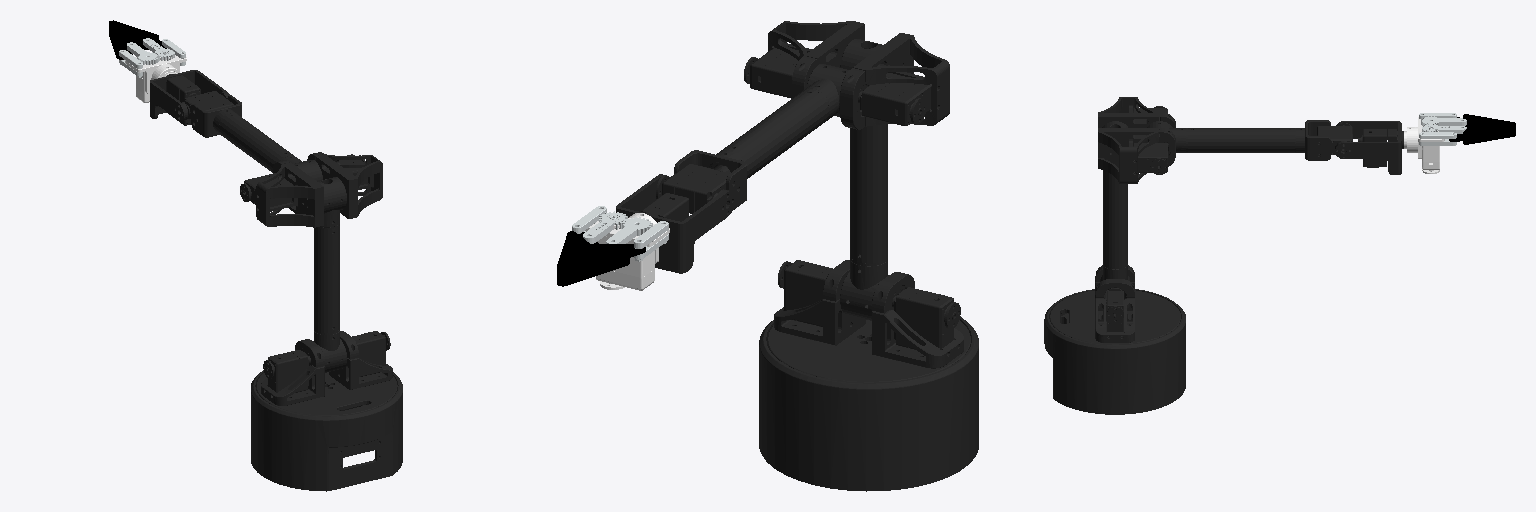
The robot description file, URDF, robot "roboarm_chem_04":
<?xml version='1.0' encoding='utf-8'?>
<robot name="roboarm_chem_04">
  <link name="base_link">
    <inertial>
      <origin xyz="1.73932663244066E-06 0.00265883709747997 0.0446889883493478" rpy="0 0 0" />
      <mass value="0.419863469519142" />
      <inertia ixx="0.00105761024557456" ixy="5.12356330375273E-08" ixz="1.24770636493458E-08" iyy="0.00142771966144248" iyz="-2.07656595584937E-06" izz="0.00211039120929697" />
    </inertial>
    <visual>
      <origin xyz="0 0 0" rpy="0 0 0" />
      <geometry>
        <mesh filename="package://roboarm_chem_04/meshes/base_link.STL" />
      </geometry>
      <material name="">
        <color rgba="0.2 0.2 0.2 1" />
      </material>
    </visual>
    <collision>
      <origin xyz="0 0 0" rpy="0 0 0" />
      <geometry>
        <box size="0.18 0.18 0.09" />
      </geometry>
    </collision>
  </link>
  <link name="Link_1">
    <inertial>
      <origin xyz="-0.000312939053955983 0.000491374965336895 0.0833125354570275" rpy="0 0 0" />
      <mass value="0.222236489449497" />
      <inertia ixx="0.000144980069064503" ixy="7.37632654533576E-11" ixz="1.21531430288866E-14" iyy="0.000154087088620012" iyz="-1.73389242482781E-07" izz="0.000272979063174988" />
    </inertial>
    <visual>
      <origin xyz="0 0 0" rpy="0 0 0" />
      <geometry>
        <mesh filename="package://roboarm_chem_04/meshes/Link_1.STL" />
      </geometry>
      <material name="">
        <color rgba="0.2 0.2 0.2 1" />
      </material>
    </visual>
    <collision>
      <origin xyz="0 0 0" rpy="0 0 0" />
      <geometry>
        <box size="0.11 0.11 0.18" />
      </geometry>
    </collision>
  </link>
  <joint name="J1" type="revolute">
    <origin xyz="0 0 0.0101" rpy="0 0 0" />
    <parent link="base_link" />
    <child link="Link_1" />
    <axis xyz="0 0 1" />
    <limit lower="-2.35619449" upper="2.35619449" effort="1.000" velocity="1.500" />
  </joint>
  <link name="Link_2">
    <inertial>
      <origin xyz="-0.0171421351250699 0.151314038284628 0.014500005663554" rpy="0 0 0" />
      <mass value="0.223533522736278" />
      <inertia ixx="7.90800916838117E-05" ixy="-9.96905272279738E-11" ixz="4.32997056370354E-13" iyy="6.98465011294098E-05" iyz="1.64016524797698E-08" izz="8.90023782097536E-05" />
    </inertial>
    <visual>
      <origin xyz="0 0 0" rpy="0 0 0" />
      <geometry>
        <mesh filename="package://roboarm_chem_04/meshes/Link_2.STL" />
      </geometry>
      <material name="">
        <color rgba="0.2 0.2 0.2 1" />
      </material>
    </visual>
    <collision>
      <origin xyz="0 0 0" rpy="0 0 0" />
      <geometry>
        <box size="0.08 0.25 0.08" />
      </geometry>
    </collision>
  </link>
  <joint name="J2" type="revolute">
    <origin xyz="0.0144999999999951 0 0.1099" rpy="1.5707963267949 0 -1.5707963267949" />
    <parent link="Link_1" />
    <child link="Link_2" />
    <axis xyz="0 0 -1" />
    <limit lower="-1.57079633" upper="1.57079633" effort="1.000" velocity="1.000" />
  </joint>
  <link name="Link_3">
    <inertial>
      <origin xyz="-0.107890244054724 -4.24983861990746E-09 0.0151815650581185" rpy="0 0 0" />
      <mass value="0.0912315363618316" />
      <inertia ixx="1.49543834285298E-05" ixy="5.77364105632455E-11" ixz="-3.22770002321996E-08" iyy="3.80467299541397E-05" iyz="6.99873536036071E-12" izz="3.70836832591147E-05" />
    </inertial>
    <visual>
      <origin xyz="0 0 0" rpy="0 0 0" />
      <geometry>
        <mesh filename="package://roboarm_chem_04/meshes/Link_3.STL" />
      </geometry>
      <material name="">
        <color rgba="0.2 0.2 0.2 1" />
      </material>
    </visual>
    <collision>
      <origin xyz="0 0 0" rpy="0 0 0" />
      <geometry>
        <box size="0.25 0.08 0.08" />
      </geometry>
    </collision>
  </link>
  <joint name="J3" type="revolute">
    <origin xyz="-0.0499999999999992 0.184 0" rpy="0 0 0" />
    <parent link="Link_2" />
    <child link="Link_3" />
    <axis xyz="0 0 -1" />
    <limit lower="-1.57079633" upper="1.57079633" effort="1.000" velocity="1.000" />
  </joint>
  <link name="Link_4">
    <inertial>
      <origin xyz="0.044481095091289 -0.0081761124999791 -0.0292999849532792" rpy="0 0 0" />
      <mass value="0.0443537492683168" />
      <inertia ixx="1.68078112877524E-05" ixy="1.81577312969689E-06" ixz="-2.98991048329258E-12" iyy="2.05289831770313E-05" iyz="7.00940146791729E-12" izz="1.48883101964323E-05" />
    </inertial>
    <visual>
      <origin xyz="0 0 0" rpy="0 0 0" />
      <geometry>
        <mesh filename="package://roboarm_chem_04/meshes/Link_4.STL" />
      </geometry>
      <material name="">
        <color rgba="0.2 0.2 0.2 1" />
      </material>
    </visual>
    <collision>
      <origin xyz="0 0 0" rpy="0 0 0" />
      <geometry>
        <box size="0.13 0.09 0.09" />
      </geometry>
    </collision>
  </link>
  <joint name="J4" type="revolute">
    <origin xyz="-0.207519998126899 0 -0.014000000000003" rpy="-3.14159265358979 0 -3.14159265358979" />
    <parent link="Link_3" />
    <child link="Link_4" />
    <axis xyz="0 0 -1" />
    <limit lower="-1.57079633" upper="1.57079633" effort="0.800" velocity="1.500" />
  </joint>
  <link name="Link_5">
    <inertial>
      <origin xyz="-0.000249102056309764 -0.00221513144395682 0.0147208004051248" rpy="0 0 0" />
      <mass value="0.0455446268807533" />
      <inertia ixx="3.75821058667943E-06" ixy="-3.7657117189236E-08" ixz="-2.26616793119383E-08" iyy="8.28242643273661E-06" iyz="-4.98489753704155E-07" izz="8.27637551908393E-06" />
    </inertial>
    <visual>
      <origin xyz="0 0 0" rpy="0 0 0" />
      <geometry>
        <mesh filename="package://roboarm_chem_04/meshes/Link_5.STL" />
      </geometry>
      <material name="">
        <color rgba="1 1 1 1" />
      </material>
    </visual>
    <collision>
      <origin xyz="0 0 0" rpy="0 0 0" />
      <geometry>
        <box size="0.12 0.11 0.09" />
      </geometry>
    </collision>
  </link>
  <joint name="J5" type="revolute">
    <origin xyz="0.0785 0 -0.0293000000000028" rpy="0 1.5707963267949 0" />
    <parent link="Link_4" />
    <child link="Link_5" />
    <axis xyz="0 0 1" />
    <limit lower="-2.35619449" upper="2.35619449" effort="0.800" velocity="1.500" />
  </joint>
  <link name="Link_firge">
    <inertial>
      <origin xyz="1.83695036411191E-07 -0.0089178020458654 0.0514594684786575" rpy="0 0 0" />
      <mass value="0.00360498134108606" />
      <inertia ixx="5.27597115391917E-07" ixy="-6.79732275349961E-12" ixz="-1.1996336603417E-13" iyy="6.10955326164708E-08" iyz="6.95542456556916E-09" izz="5.63546065387766E-07" />
    </inertial>
    <visual>
      <origin xyz="0 0 0" rpy="0 0 0" />
      <geometry>
        <mesh filename="package://roboarm_chem_04/meshes/Link_firge.STL" />
      </geometry>
      <material name="">
        <color rgba="0.898039215686275 0.92156862745098 0.929411764705882 1" />
      </material>
    </visual>
    <collision>
      <origin xyz="0 0 0" rpy="0 0 0" />
      <geometry>
        <box size="0.04 0.04 0.09" />
      </geometry>
    </collision>
  </link>
  <joint name="JF" type="revolute">
    <origin xyz="-0.01 -0.0342 0.02" rpy="-1.5708 0 0" />
    <parent link="Link_5" />
    <child link="Link_firge" />
    <axis xyz="0 0 1" />
    <limit lower="-0.76699039" upper="1.53398079" effort="0.400" velocity="1.000" />
  </joint>
  <link name="Link_R3">
    <inertial>
      <origin xyz="-0.000803040650935911 -0.0221438584436943 -0.00674999998460443" rpy="0 0 0" />
      <mass value="0.00824328211198732" />
      <inertia ixx="2.77757435310965E-06" ixy="7.32956274730454E-07" ixz="1.99019718121647E-15" iyy="5.90547228107081E-07" iyz="-1.18673854698641E-15" izz="3.11014791998846E-06" />
    </inertial>
    <visual>
      <origin xyz="0 0 0" rpy="0 0 0" />
      <geometry>
        <mesh filename="package://roboarm_chem_04/meshes/Link_R3.STL" />
      </geometry>
      <material name="">
        <color rgba="0 0 0 1" />
      </material>
    </visual>
    <collision>
      <origin xyz="0 0 0" rpy="0 0 0" />
      <geometry>
        <box size="0.035 0.09 0.025" />
      </geometry>
    </collision>
  </link>
  <joint name="JR3" type="revolute">
    <origin xyz="0 -0.035 0.0542" rpy="0 0 0" />
    <parent link="Link_firge" />
    <child link="Link_R3" />
    <axis xyz="0 0 1" />
    <limit lower="-0.76699039" upper="1.53398079" effort="0.200" velocity="1.000" />
    <mimic joint="JF" multiplier="-1" offset="0" />
  </joint>
  <link name="Link_R1">
    <inertial>
      <origin xyz="3.46944695195361E-18 -0.0175 -0.00675000000000003" rpy="0 0 0" />
      <mass value="0.00309998846903219" />
      <inertia ixx="4.17980449638334E-07" ixy="-4.03367256691125E-24" ixz="-1.35456091245948E-24" iyy="2.29615233305605E-08" iyz="-1.19498820553349E-22" izz="4.28180617268639E-07" />
    </inertial>
    <visual>
      <origin xyz="0 0 0" rpy="0 0 0" />
      <geometry>
        <mesh filename="package://roboarm_chem_04/meshes/Link_R1.STL" />
      </geometry>
      <material name="">
        <color rgba="0.898039215686275 0.92156862745098 0.929411764705882 1" />
      </material>
    </visual>
    <collision>
      <origin xyz="0 0 0" rpy="0 0 0" />
      <geometry>
        <box size="0.025 0.07 0.025" />
      </geometry>
    </collision>
  </link>
  <joint name="JR1" type="revolute">
    <origin xyz="-0.026 0.02 0.01" rpy="-1.5708 0 0" />
    <parent link="Link_5" />
    <child link="Link_R1" />
    <axis xyz="0 0 1" />
    <limit lower="-0.76699039" upper="1.53398079" effort="0.200" velocity="1.000" />
    <mimic joint="JF" multiplier="1" offset="0" />
  </joint>
  <link name="Link_L1">
    <inertial>
      <origin xyz="8.18706816421017E-08 -0.0114271913700033 -0.00200000222127561" rpy="0 0 0" />
      <mass value="0.00298449939501014" />
      <inertia ixx="5.76735411933144E-07" ixy="2.63949557594088E-12" ixz="-4.75600140268854E-16" iyy="6.05175920756033E-08" iyz="6.70531606768159E-14" izz="6.24840676797674E-07" />
    </inertial>
    <visual>
      <origin xyz="0 0 0" rpy="0 0 0" />
      <geometry>
        <mesh filename="package://roboarm_chem_04/meshes/Link_L1.STL" />
      </geometry>
      <material name="">
        <color rgba="0.898039215686275 0.92156862745098 0.929411764705882 1" />
      </material>
    </visual>
    <collision>
      <origin xyz="0 0 0" rpy="0 0 0" />
      <geometry>
        <box size="0.035 0.07 0.025" />
      </geometry>
    </collision>
  </link>
  <joint name="JL1" type="revolute">
    <origin xyz="0.01 0.0195 0.02" rpy="-1.5708 0 0" />
    <parent link="Link_5" />
    <child link="Link_L1" />
    <axis xyz="0 0 1" />
    <limit lower="-0.76699039" upper="1.53398079" effort="0.200" velocity="1.000" />
    <mimic joint="JF" multiplier="-1" offset="0" />
  </joint>
  <link name="Link_L4">
    <inertial>
      <origin xyz="0.000803040650935893 -0.0221438584436943 -0.00675000001539566" rpy="0 0 0" />
      <mass value="0.00824328211198731" />
      <inertia ixx="2.77757435310965E-06" ixy="-7.3295627473045E-07" ixz="1.99019689199083E-15" iyy="5.90547228107077E-07" iyz="1.18673768013635E-15" izz="3.11014791998846E-06" />
    </inertial>
    <visual>
      <origin xyz="0 0 0" rpy="0 0 0" />
      <geometry>
        <mesh filename="package://roboarm_chem_04/meshes/Link_L4.STL" />
      </geometry>
      <material name="">
        <color rgba="0 0 0 1" />
      </material>
    </visual>
    <collision>
      <origin xyz="0 0 0" rpy="0 0 0" />
      <geometry>
        <box size="0.035 0.09 0.025" />
      </geometry>
    </collision>
  </link>
  <joint name="JL4" type="revolute">
    <origin xyz="0 -0.035 0.0005" rpy="0 0 0" />
    <parent link="Link_L1" />
    <child link="Link_L4" />
    <axis xyz="0 0 1" />
    <limit lower="-0.76699039" upper="1.53398079" effort="0.200" velocity="1.000" />
    <mimic joint="JL1" multiplier="-1" offset="0" />
  </joint>
  <link name="Link_L2">
    <inertial>
      <origin xyz="-6.28432285376679E-10 -0.0174999999369088 -0.00795436671592822" rpy="0 0 0" />
      <mass value="0.00385882311747437" />
      <inertia ixx="4.20163036995019E-07" ixy="1.70029514005294E-14" ixz="3.0670575342076E-15" iyy="2.5144278341559E-08" iyz="3.05500432791958E-14" izz="4.31883980865295E-07" />
    </inertial>
    <visual>
      <origin xyz="0 0 0" rpy="0 0 0" />
      <geometry>
        <mesh filename="package://roboarm_chem_04/meshes/Link_L2.STL" />
      </geometry>
      <material name="">
        <color rgba="0.898039215686275 0.92156862745098 0.929411764705882 1" />
      </material>
    </visual>
    <collision>
      <origin xyz="0 0 0" rpy="0 0 0" />
      <geometry>
        <box size="0.025 0.07 0.025" />
      </geometry>
    </collision>
  </link>
  <joint name="JL2" type="revolute">
    <origin xyz="0.026 0.0197 0.01" rpy="-1.5708 0 0" />
    <parent link="Link_5" />
    <child link="Link_L2" />
    <axis xyz="0 0 1" />
    <limit lower="-0.76699039" upper="1.53398079" effort="0.200" velocity="1.000" />
    <mimic joint="JL1" multiplier="1" offset="0" />
  </joint>
  <link name="tool0" />
  <joint name="tool0_fixed" type="fixed">
    <origin xyz="0 0 0.14" rpy="0 0 0" />
    <parent link="Link_5" />
    <child link="tool0" />
  </joint>
</robot>

--- What the picture shows (computed from the rendered views, not written in the file) ---
The picture shows the robot from 3 angles, left to right: view 1: azimuth 30°, elevation 25°; view 2: azimuth 150°, elevation 25°; view 3: azimuth 270°, elevation 25°; orthographic projection.
Robot: roboarm_chem_04 — 13 links, 12 joints (11 revolute, 1 fixed); root link base_link; default pose: all joints at 0.
Links seen in each view (by area): view 1: Link_2, base_link, Link_1, Link_3, Link_4, Link_5; view 2: base_link, Link_2, Link_1, Link_3, Link_4, Link_L4, Link_5, Link_firge, Link_R3, Link_L2, Link_L1; view 3: base_link, Link_2, Link_1, Link_3, Link_4, Link_5, Link_R3.
Link boxes in pixels (x1,y1,x2,y2): Link_2: [240, 152, 382, 372]; base_link: [251, 370, 402, 491]; Link_1: [256, 331, 397, 415]; Link_3: [181, 91, 322, 180]; Link_4: [150, 70, 229, 125]; Link_5: [125, 55, 186, 102]; base_link: [759, 316, 978, 491]; Link_2: [744, 21, 949, 320]; Link_1: [767, 260, 970, 382]; Link_3: [656, 64, 848, 213]; Link_4: [616, 174, 734, 273]; Link_L4: [560, 244, 645, 286]; Link_5: [585, 213, 669, 290]; Link_firge: [583, 211, 627, 243]; Link_R3: [557, 231, 598, 285]; Link_L2: [634, 221, 668, 261]; Link_L1: [606, 217, 652, 243]; base_link: [1044, 289, 1185, 414]; Link_2: [1098, 97, 1175, 300]; Link_1: [1050, 265, 1180, 344]; Link_3: [1147, 120, 1352, 160]; Link_4: [1335, 121, 1403, 174]; Link_5: [1404, 117, 1444, 173]; Link_R3: [1449, 124, 1515, 144].
Size in the robot's own frame: 0.16 by 0.531 by 0.3265 metres.
Meshes: 12 distinct files referenced, 12 mesh visuals loaded (12 binary STL).
